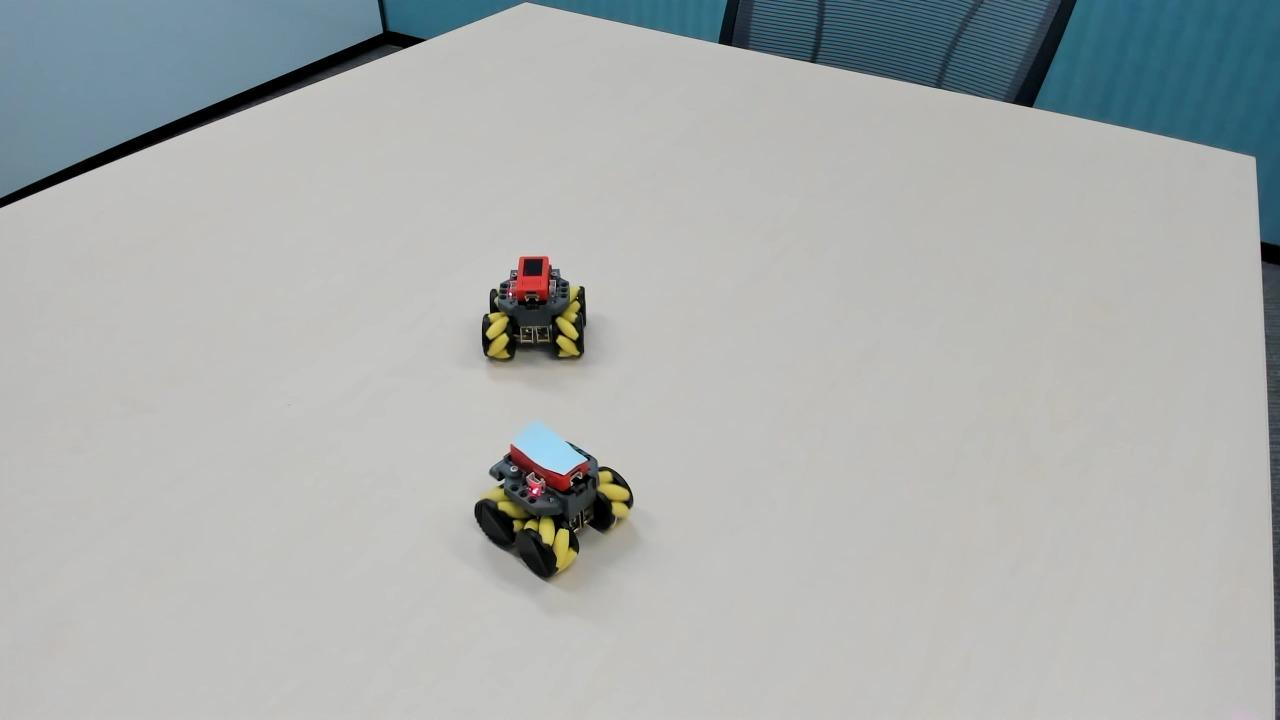B-Robot: (464, 410, 639, 585)
R-Robot: (478, 241, 598, 376)
